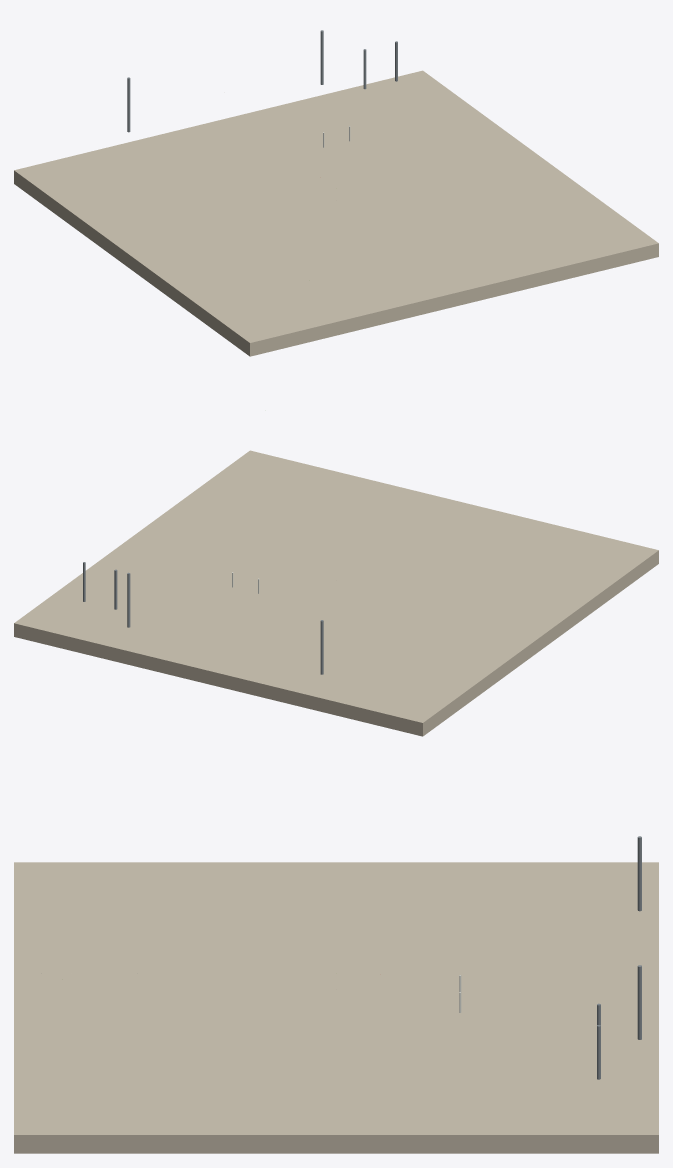
The model's file is env_campus_track.glb.
3 renders of one model, top to bottom at view 1: azimuth 30°, elevation 25°; view 2: azimuth 150°, elevation 25°; view 3: azimuth 270°, elevation 25°, orthographic. The views are drawn at different scales.
Visible parts, largest first — view 1: Base; view 2: Base; view 3: Base.
Part boxes in pixels (x1=…): Base: x1=14, y1=70, x2=658, y2=356; Base: x1=14, y1=450, x2=658, y2=736; Base: x1=14, y1=862, x2=658, y2=1153.
Bounding box in the file's own units: 22 × 6.3 × 22.
